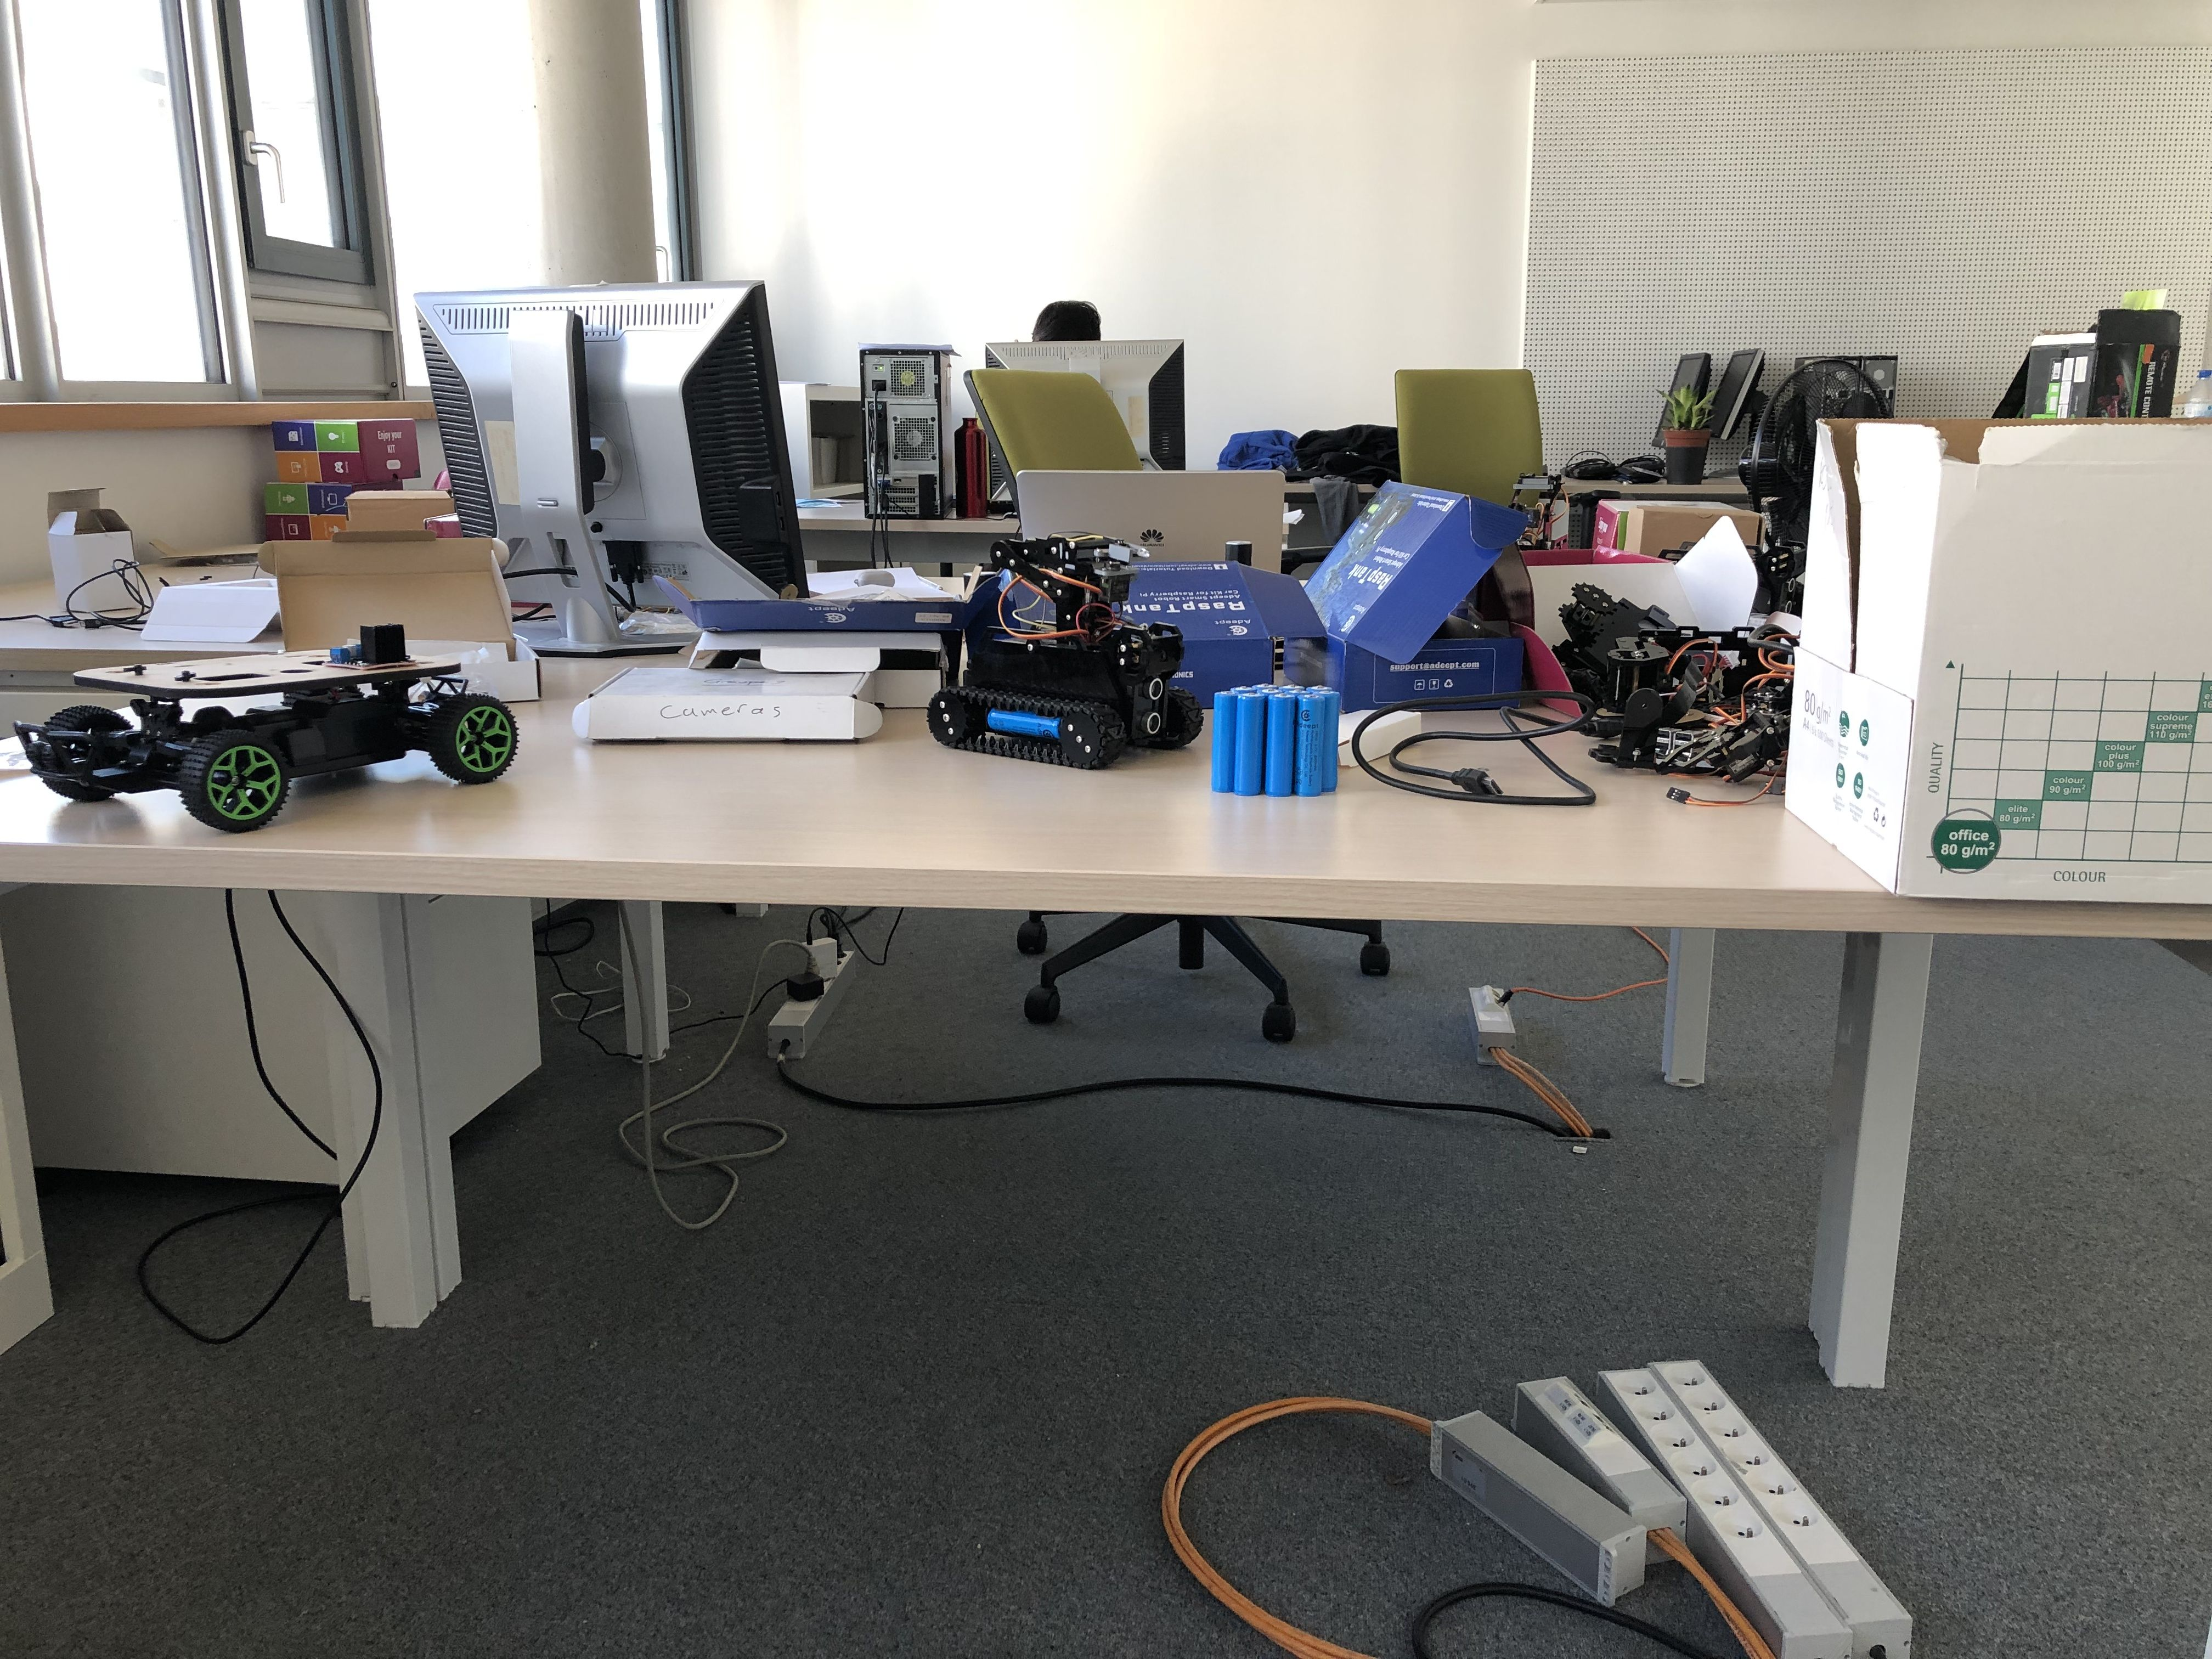rasptank: (918, 533, 1204, 775)
